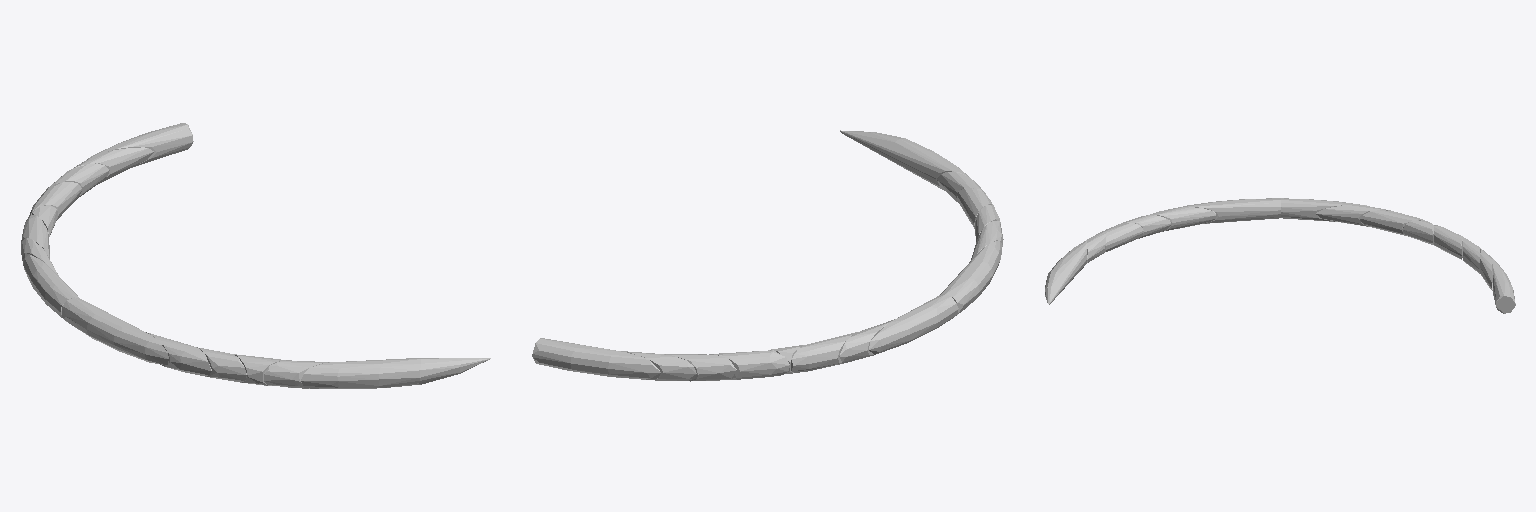
The robot description file, URDF, robot "needle":
<?xml version="0.0" ?>
<robot name="needle">
    <material name="grey">
        <color rgba="0.80 0.80 0.80 1"/>
    </material>

    <link name="baseLink">
        <contact>
            <lateral_friction value="1.0"/>
            <rolling_friction value="0.0"/>
        </contact>
        <inertial>
            <!--      radius=0.048, in radius=0.002-->
            <!--      center of mass: 2*R/pi; important-->
            <origin rpy="0 0 0" xyz="-0.031 0 0"/>
            <mass value="0.01"/>
            <inertia ixx="0." ixy="0" ixz="0" iyy="0." iyz="0" izz="0."/>
        </inertial>
        <visual>
            <origin rpy="0 0 0" xyz="0 0 0"/>
            <geometry>
                <mesh filename="meshes/needle_96mm_vhacd.obj" scale="1 1 1"/>
            </geometry>
            <material name="grey"/>
        </visual>
        <collision>
            <origin rpy="0 0 0" xyz="0 0 0"/>
            <geometry>
                <mesh filename="meshes/needle_96mm_vhacd.obj" scale="1 1 1"/>
            </geometry>
        </collision>
    </link>
</robot>

--- What the picture shows (computed from the rendered views, not written in the file) ---
Views: 3 orthographic renders of the robot side by side, from view 1: azimuth 30°, elevation 25°; view 2: azimuth 150°, elevation 25°; view 3: azimuth 270°, elevation 25°.
Robot: needle — 1 links, 0 joints (none); root link baseLink; default pose: all joints at 0.
Links seen in each view (by area): view 1: baseLink; view 2: baseLink; view 3: baseLink.
Boxes of the visible links, x1=… form: baseLink: x1=21, y1=123, x2=490, y2=388; baseLink: x1=532, y1=130, x2=1003, y2=381; baseLink: x1=1045, y1=198, x2=1515, y2=313.
Bounding box of the posed robot: 0.0502 × 0.0989 × 0.0041 m (x, y, z).
Meshes: 1 distinct files referenced, 1 mesh visuals loaded (1 OBJ).